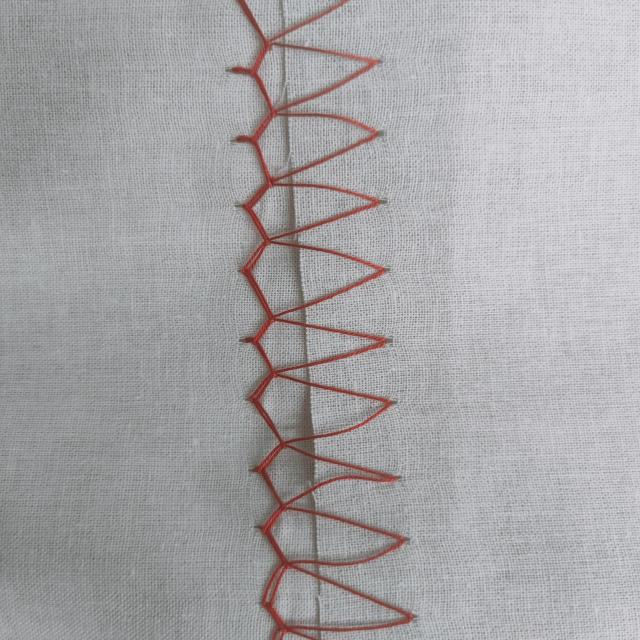gray stitch: (233, 0, 417, 640)
